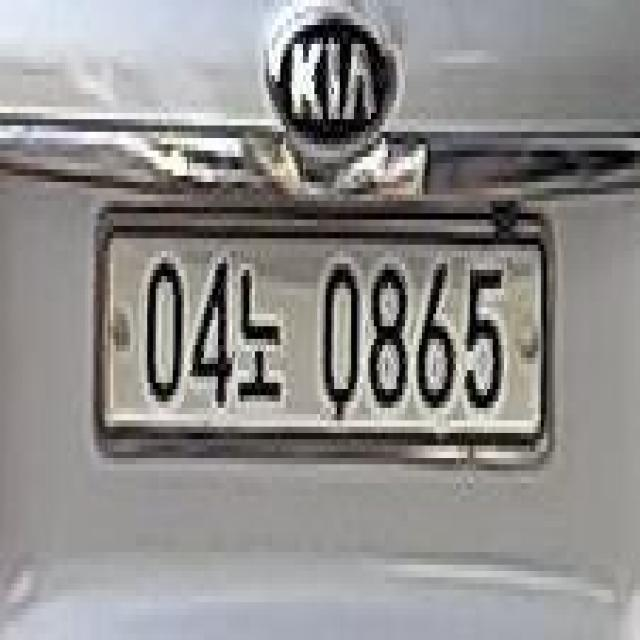illegal_plate: (92, 203, 553, 487)
